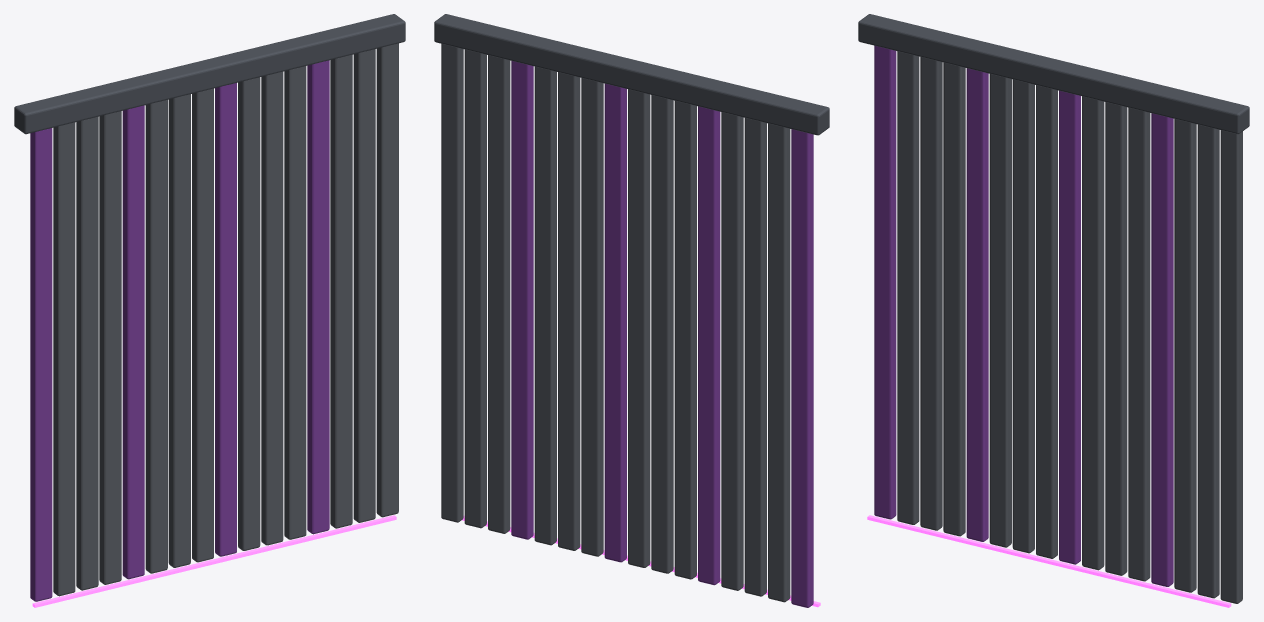
The model's file is curtains_slat_panel.glb.
3 views of the same model, side by side, from view 1: azimuth 30°, elevation 25°; view 2: azimuth 150°, elevation 25°; view 3: azimuth 330°, elevation 25° (orthographic).
Parts seen in each view (by area): view 1: GD_curtains_slat_panel__m2, GD_curtains_slat_panel__m1, GD_curtains_slat_panel__m0, GD_curtains_slat_panel__m3; view 2: GD_curtains_slat_panel__m2, GD_curtains_slat_panel__m1, GD_curtains_slat_panel__m0; view 3: GD_curtains_slat_panel__m2, GD_curtains_slat_panel__m1, GD_curtains_slat_panel__m0, GD_curtains_slat_panel__m3.
Boxes of the visible parts, x1=… form: GD_curtains_slat_panel__m2: x1=53, y1=43, x2=398, y2=596; GD_curtains_slat_panel__m1: x1=30, y1=60, x2=329, y2=601; GD_curtains_slat_panel__m0: x1=14, y1=14, x2=405, y2=134; GD_curtains_slat_panel__m3: x1=32, y1=515, x2=396, y2=607; GD_curtains_slat_panel__m2: x1=441, y1=43, x2=790, y2=602; GD_curtains_slat_panel__m1: x1=511, y1=61, x2=813, y2=607; GD_curtains_slat_panel__m0: x1=434, y1=14, x2=829, y2=135; GD_curtains_slat_panel__m2: x1=897, y1=51, x2=1242, y2=603; GD_curtains_slat_panel__m1: x1=874, y1=45, x2=1173, y2=586; GD_curtains_slat_panel__m0: x1=858, y1=14, x2=1249, y2=134; GD_curtains_slat_panel__m3: x1=867, y1=515, x2=1231, y2=607.
Bounding box in the file's own units: 1.9 × 2.36 × 0.1.
